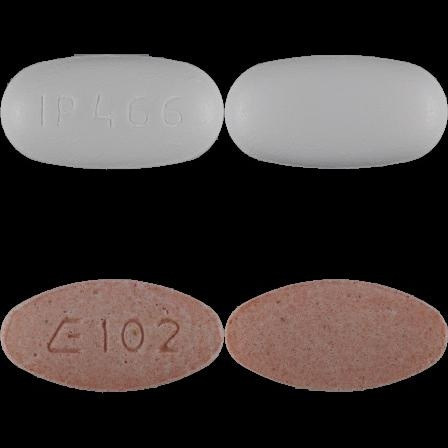33358-188: (0, 0, 224, 224)
